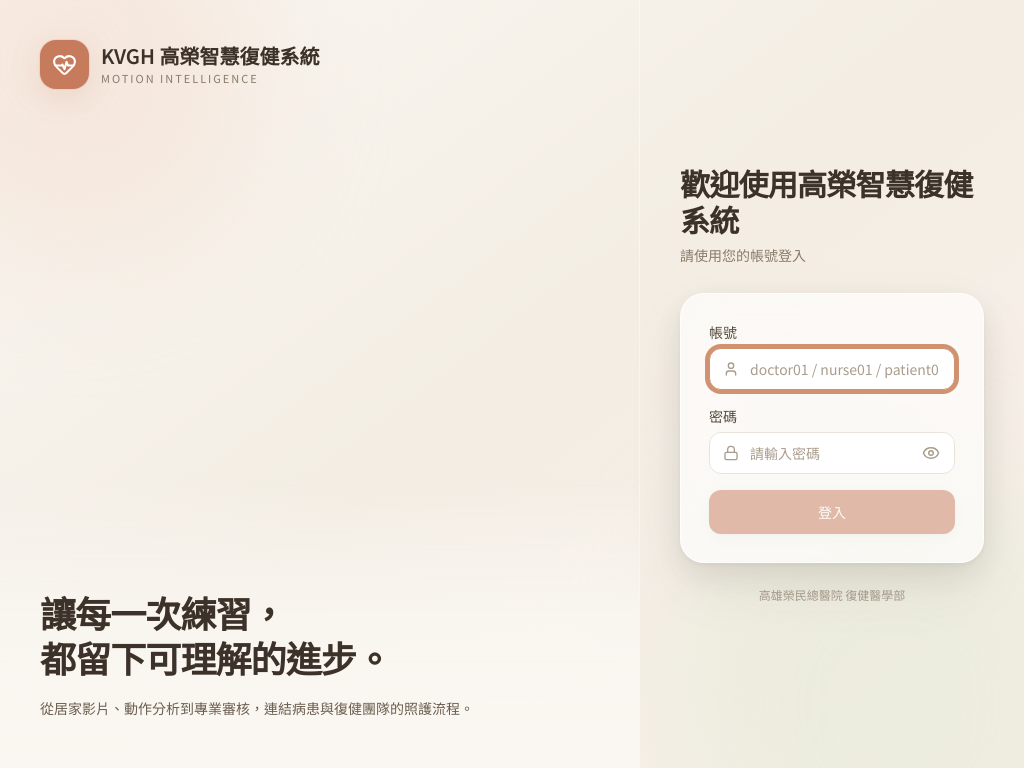
Test: LoginPage › 登入失敗 → 表單內顯示錯誤訊息，不導頁
In the field with test id "login-username": (832, 369) [709, 348, 955, 390], type "nurse01"
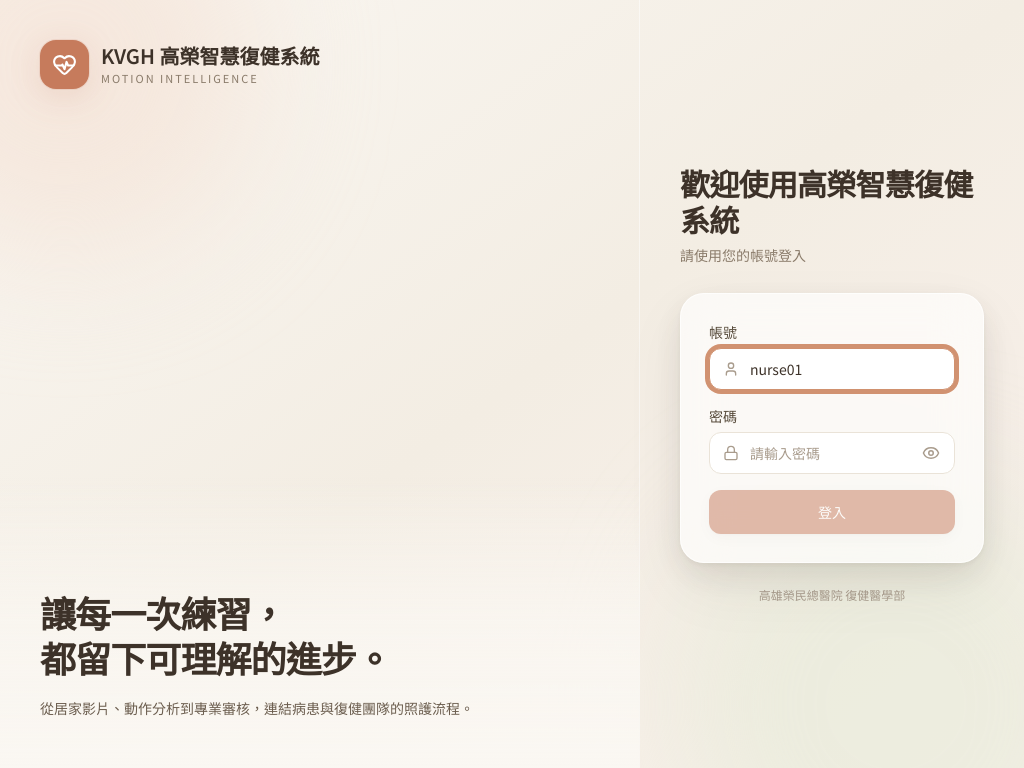
In the password field with test id "login-password": (832, 453) [709, 432, 955, 474], type "wrong"
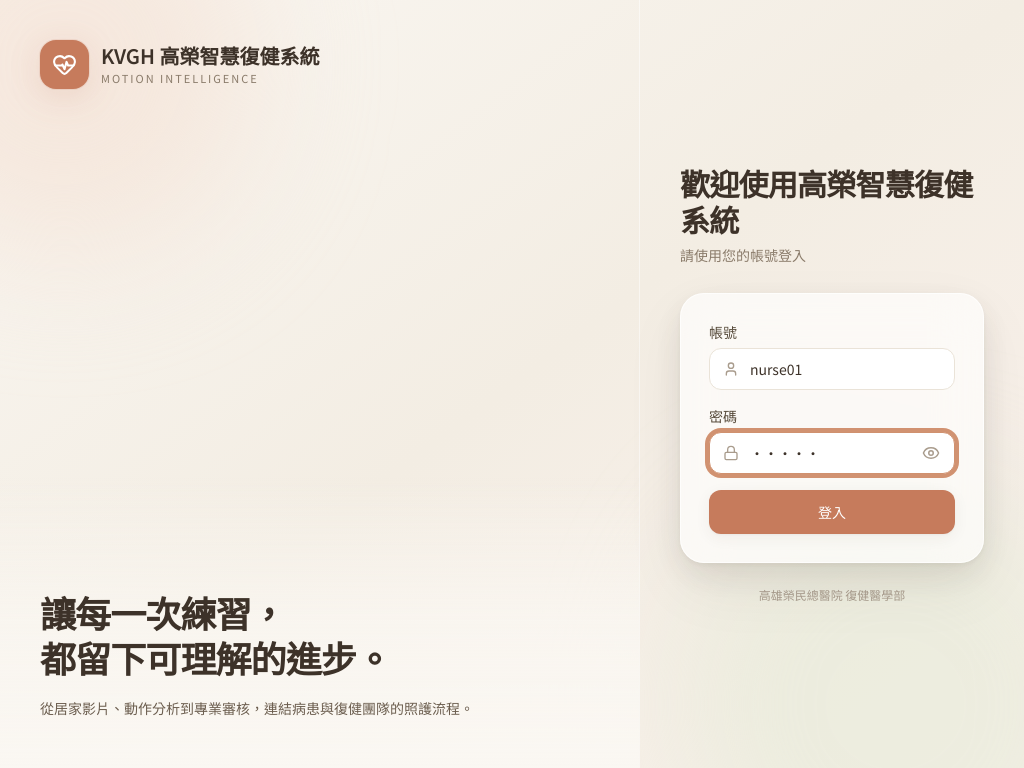
Click the button with test id "login-submit": (832, 512) [709, 490, 955, 534]
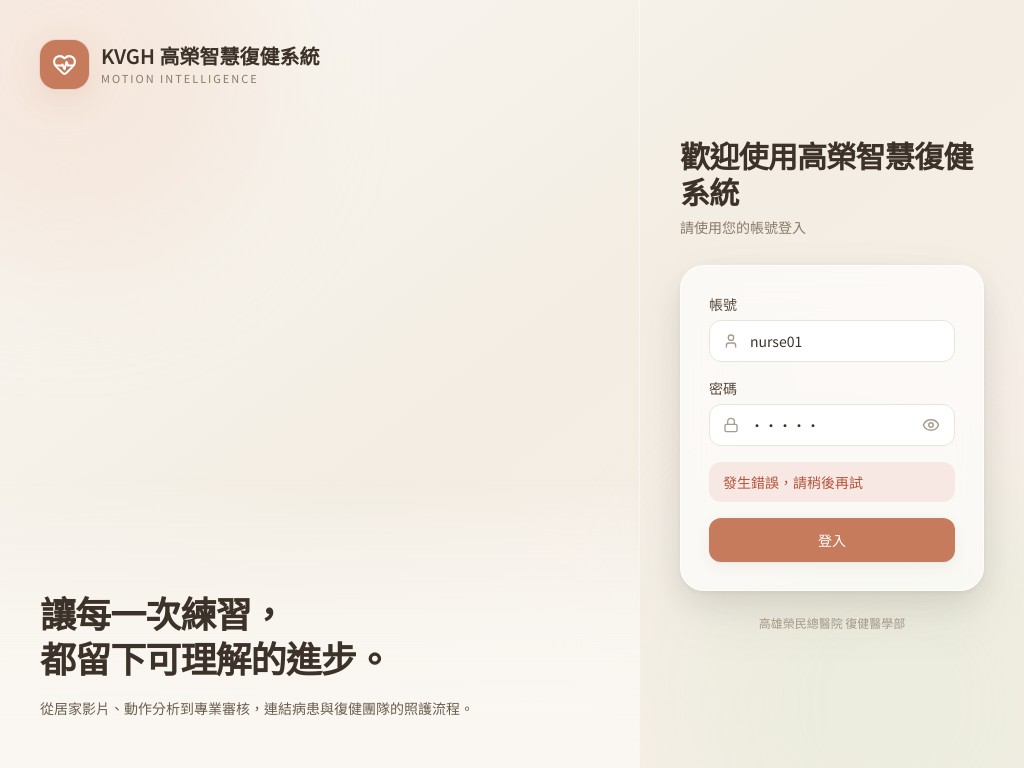
Check: the text "發生錯誤，請稍後再試" is shown, box [709, 462, 955, 502]
